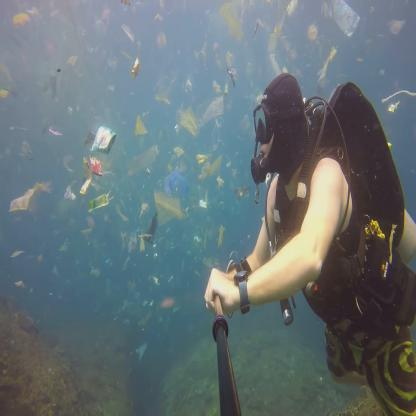Rác: (76, 161, 111, 218), (216, 4, 250, 54), (322, 0, 362, 37), (316, 38, 344, 86), (147, 187, 183, 222), (125, 146, 165, 174), (268, 28, 290, 74), (197, 154, 230, 182), (89, 125, 117, 157), (174, 107, 202, 138), (192, 46, 212, 84), (196, 99, 229, 122), (9, 4, 36, 32), (11, 184, 40, 210), (162, 170, 190, 194), (142, 236, 160, 272), (154, 85, 178, 109), (130, 110, 149, 138), (213, 219, 227, 254), (156, 26, 170, 60), (119, 230, 142, 250), (157, 288, 178, 309), (121, 21, 137, 47), (128, 57, 144, 83), (384, 22, 404, 42), (306, 18, 320, 46), (234, 186, 254, 203), (46, 120, 61, 140), (9, 243, 24, 261), (116, 205, 130, 223), (67, 51, 79, 67), (2, 75, 8, 104), (86, 266, 102, 276)
